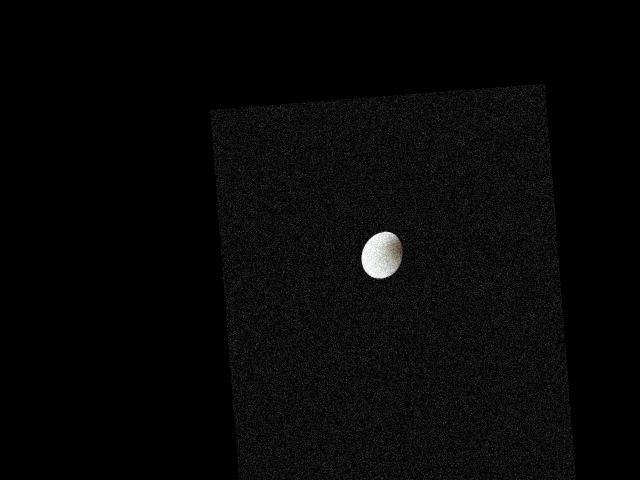egg: (359, 229, 404, 279)
